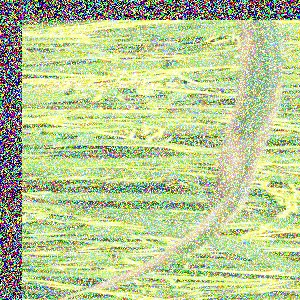Leaf_Blast: (227, 23, 283, 191)
